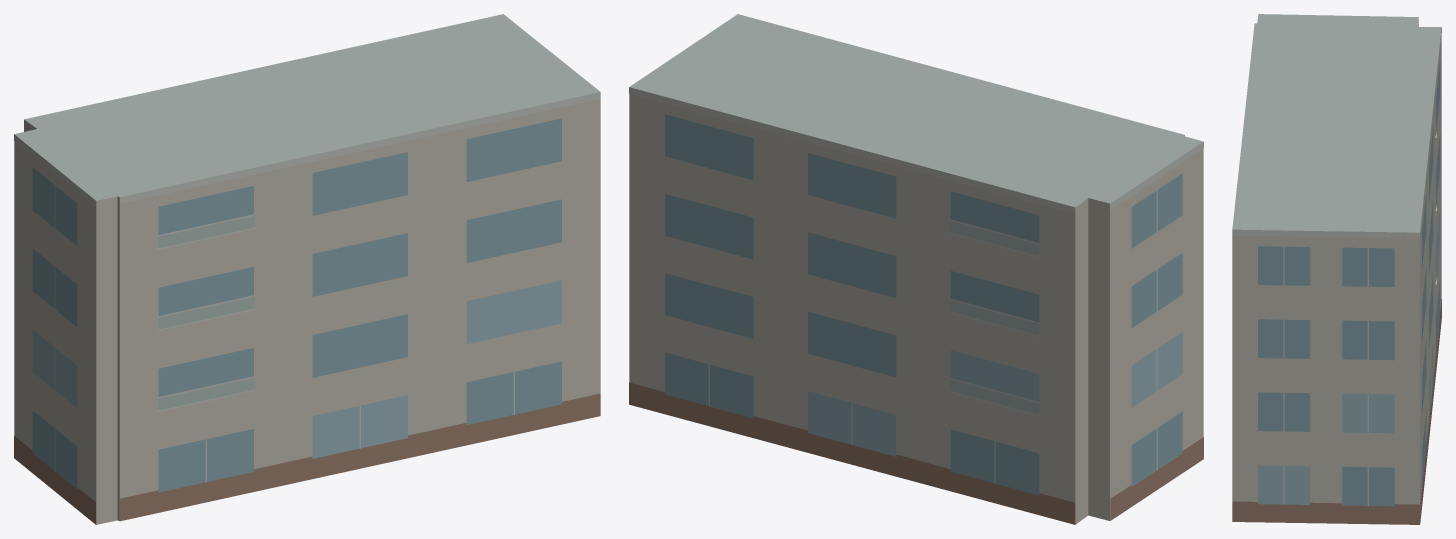
Rendered from survey-upis-32838816.glb.
3 views of the same model, side by side, from view 1: azimuth 30°, elevation 25°; view 2: azimuth 150°, elevation 25°; view 3: azimuth 270°, elevation 25° (orthographic). The views are drawn at different scales.
Parts seen in each view (by area): view 1: survey-upis-32838816.tmp; view 2: survey-upis-32838816.tmp; view 3: survey-upis-32838816.tmp.
Part boxes in pixels (x1,y1,x2,y2): survey-upis-32838816.tmp: (14,14,600,524); survey-upis-32838816.tmp: (629,14,1203,524); survey-upis-32838816.tmp: (1232,14,1441,524).
Bounding box in the file's own units: 18.95 × 11.8 × 7.67.
